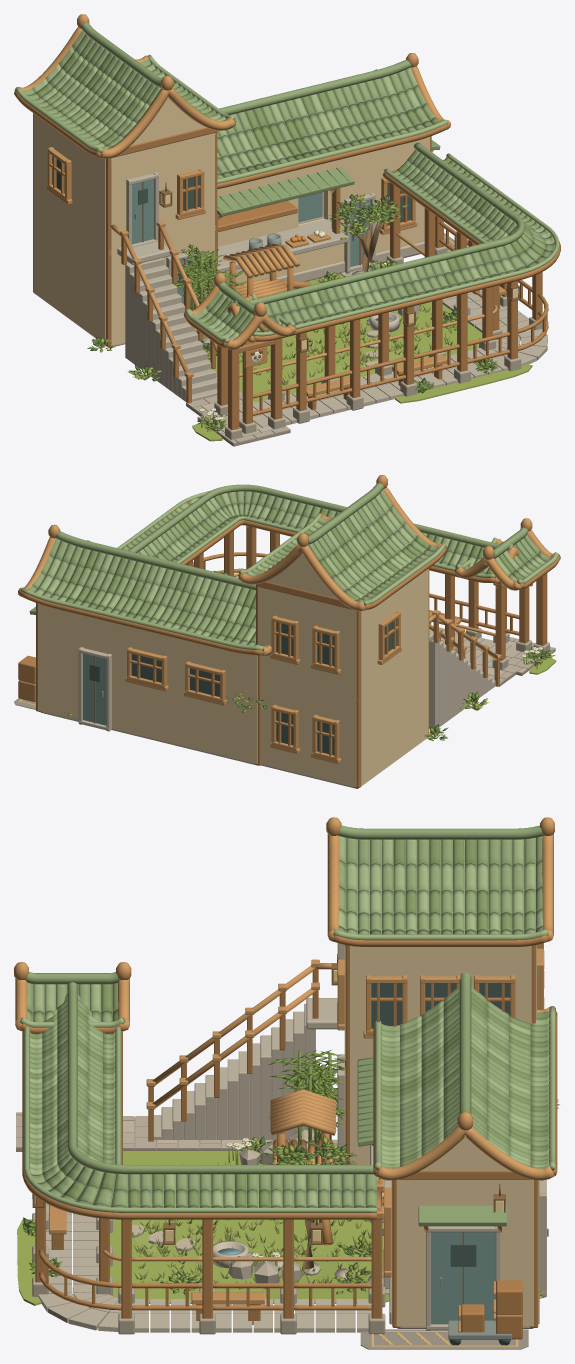
3 renders of one model, top to bottom at view 1: azimuth 30°, elevation 25°; view 2: azimuth 150°, elevation 25°; view 3: azimuth 270°, elevation 25°, orthographic. The views are drawn at different scales.
Parts seen in each view (by area): view 1: SM_01_02_曲面屋顶, SM_01_01_建筑墙体, SM_01_03_木构回廊, SM_01_04_门窗楼梯, SM_01_06_院内及专用铺地, SM_01_06_景观设施, SM_01_05_景观植物; view 2: SM_01_01_建筑墙体, SM_01_02_曲面屋顶, SM_01_04_门窗楼梯, SM_01_03_木构回廊, SM_01_06_院内及专用铺地, SM_01_05_景观植物, SM_01_06_景观设施; view 3: SM_01_02_曲面屋顶, SM_01_04_门窗楼梯, SM_01_01_建筑墙体, SM_01_03_木构回廊, SM_01_06_院内及专用铺地, SM_01_06_景观设施, SM_01_05_景观植物.
Part boxes in pixels (x1,y1,x2,y2): SM_01_02_曲面屋顶: (14,14,560,349); SM_01_01_建筑墙体: (33,97,431,347); SM_01_03_木构回廊: (214,169,548,439); SM_01_04_门窗楼梯: (46,140,440,403); SM_01_06_院内及专用铺地: (186,233,532,446); SM_01_06_景观设施: (159,182,519,410); SM_01_05_景观植物: (87,194,499,432); SM_01_01_建筑墙体: (36,553,429,788); SM_01_02_曲面屋顶: (18,475,560,656); SM_01_04_门窗楼梯: (29,606,501,763); SM_01_03_木构回廊: (187,526,549,669); SM_01_06_院内及专用铺地: (14,637,556,709); SM_01_05_景观植物: (64,571,555,740); SM_01_06_景观设施: (18,583,532,702); SM_01_02_曲面屋顶: (14,817,557,1219); SM_01_04_门窗楼梯: (146,943,548,1330); SM_01_01_建筑墙体: (344,945,539,1328); SM_01_03_木构回廊: (32,1109,385,1334); SM_01_06_院内及专用铺地: (16,1112,528,1349); SM_01_06_景观设施: (32,954,522,1345); SM_01_05_景观植物: (22,1050,559,1301).
Bounding box in the file's own units: 11.74 × 7.54 × 11.14.
